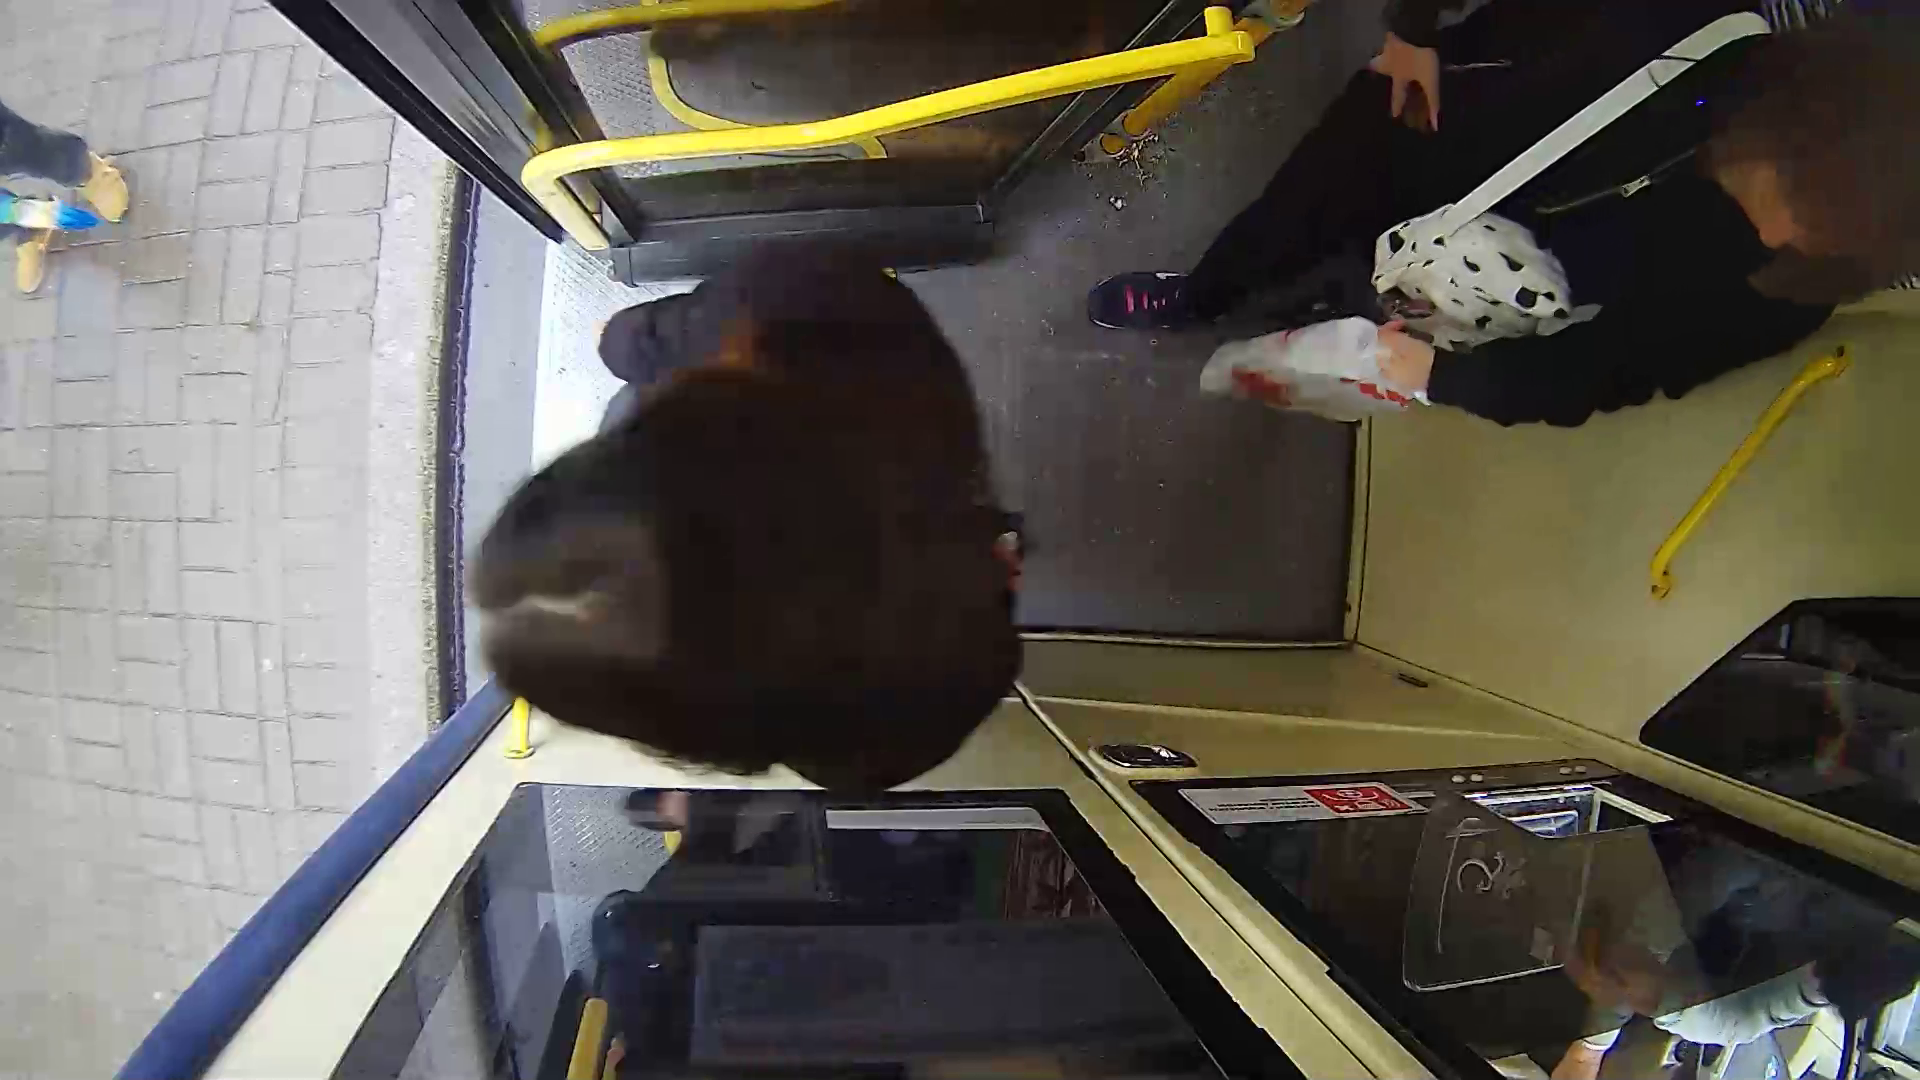person: (474, 268, 1124, 823)
